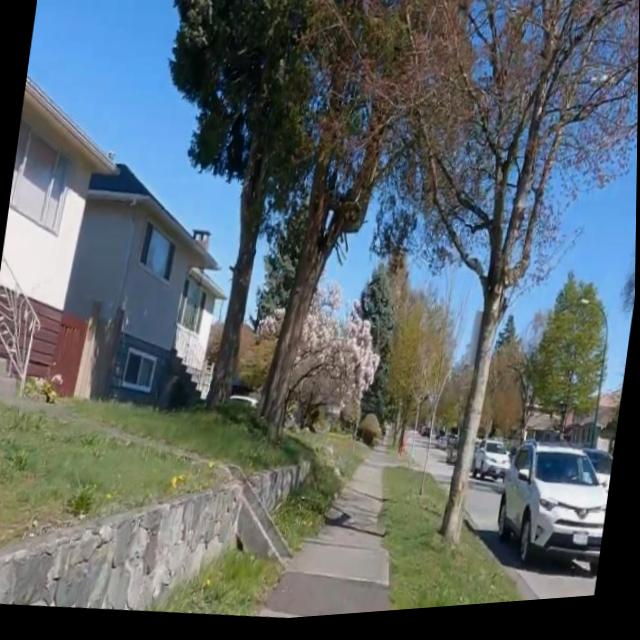Automobile: (499, 450, 609, 584), (474, 445, 510, 486), (584, 458, 614, 504)
Road: (468, 487, 598, 608)
Sidewalk: (260, 456, 391, 623)
